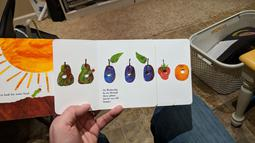text block: (98, 84, 123, 106), (1, 89, 32, 97)
